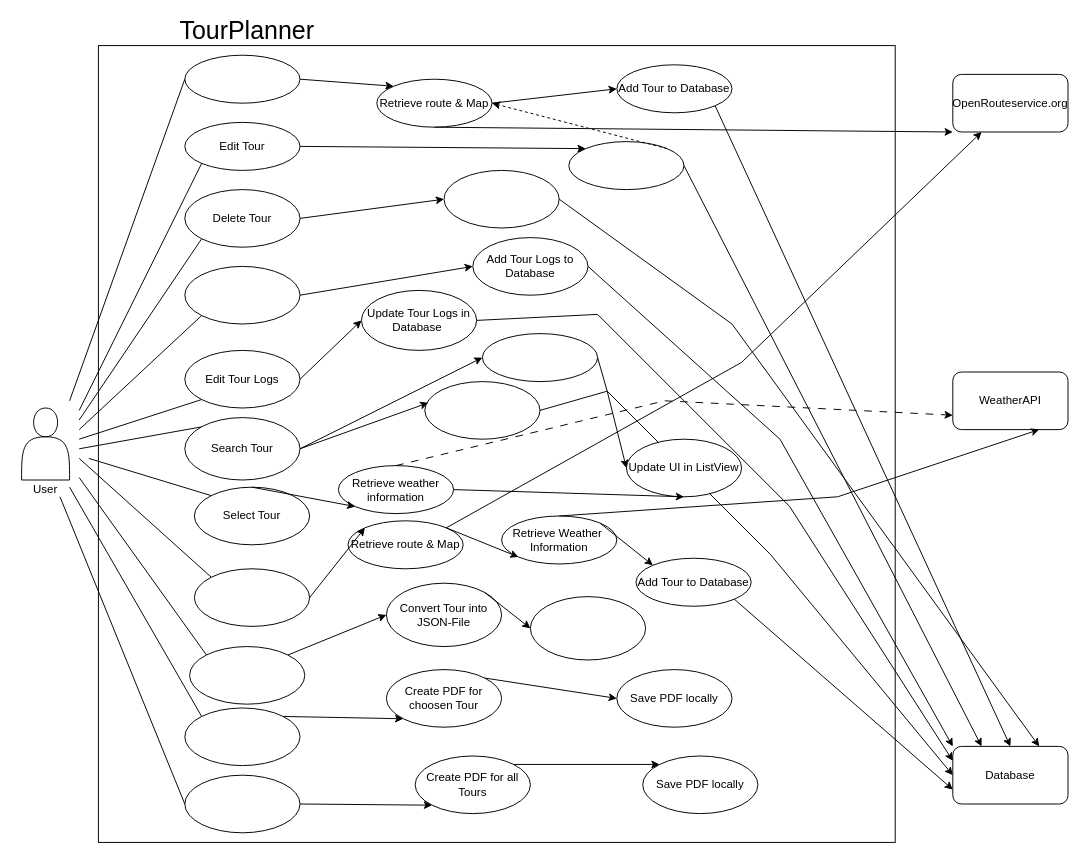
Image size: 1085x859. Some labels were removed from this diagram. Each missing label, with the centre of its shape:
"Create Summarize-Report" goes at pixel 242 803.
"Create Tour" goes at pixel 242 78.
"Create Tour Logs" goes at pixel 242 294.
"Create Tour-Report" goes at pixel 242 736.
"Delete Tour in Database" goes at pixel 501 198.
"Export Tour" goes at pixel 247 675.
"Import Tour" goes at pixel 251 597.
"Save JSON-File locally" goes at pixel 587 628.
"Search for Tour in Database" goes at pixel 539 357.
"Search for Tour Log in Database" goes at pixel 482 410.
"Update Tour in Database" goes at pixel 626 165.
